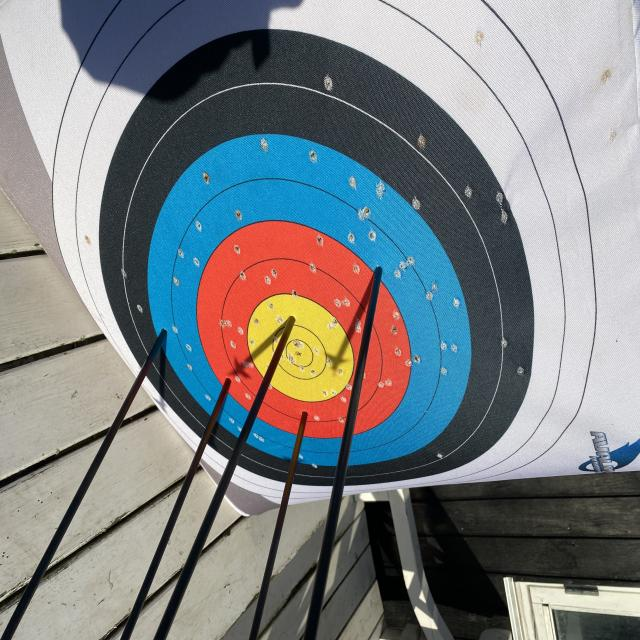Arrow_Blue: (364, 260, 398, 296), (150, 313, 180, 348)
Arrow_Red: (293, 398, 318, 434), (219, 368, 241, 399)
Arrow_Yellow: (276, 306, 306, 343)
